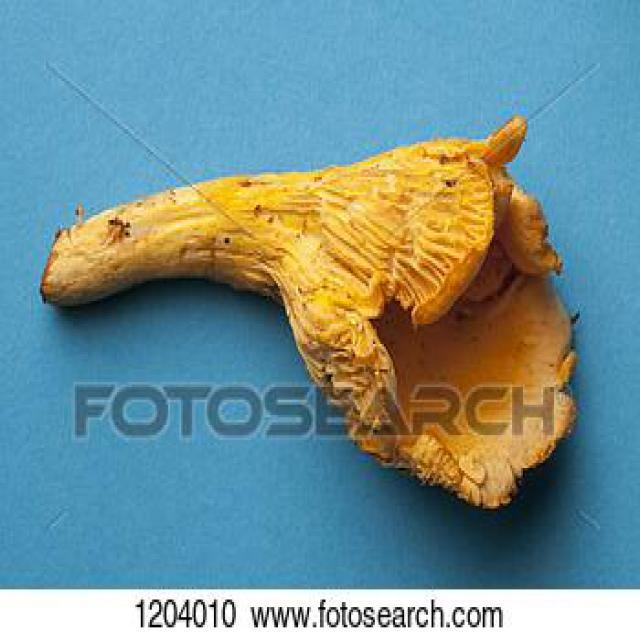Cantharellus cibarius: (42, 119, 577, 509)
